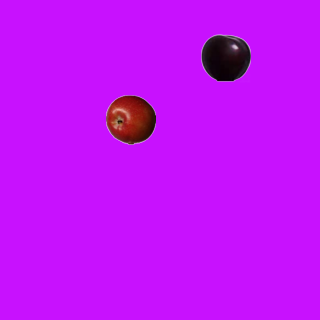Apple Braeburn: (105, 94, 155, 144)
Cherry Wax Black: (200, 32, 250, 82)
